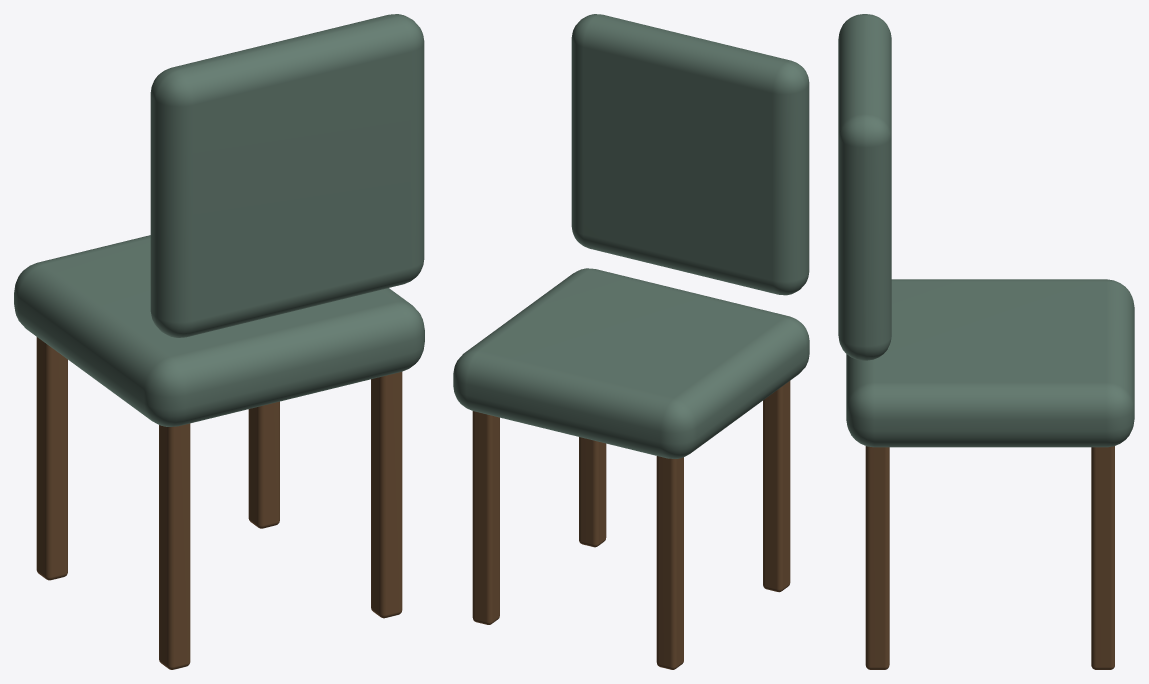
Rendered from dining_chair.glb.
The picture shows the model from 3 angles, left to right: view 1: azimuth 30°, elevation 25°; view 2: azimuth 150°, elevation 25°; view 3: azimuth 270°, elevation 25°; orthographic projection. The views are drawn at different scales.
Visible parts, largest first — view 1: Curved padded back, Upholstered dining seat, Chair leg.001, Chair leg.003, Chair leg, Chair leg.002; view 2: Curved padded back, Upholstered dining seat, Chair leg, Chair leg.002, Chair leg.001, Chair leg.003; view 3: Upholstered dining seat, Curved padded back, Chair leg.003, Chair leg.002.
Part boxes in pixels (<box>): Curved padded back: <box>150,14,424,337</box>; Upholstered dining seat: <box>14,235,424,426</box>; Chair leg.001: <box>159,423,190,669</box>; Chair leg.003: <box>371,372,402,618</box>; Chair leg: <box>36,337,67,580</box>; Chair leg.002: <box>248,401,279,528</box>; Curved padded back: <box>571,14,809,295</box>; Upholstered dining seat: <box>453,268,809,458</box>; Chair leg: <box>656,456,683,669</box>; Chair leg.002: <box>472,411,499,624</box>; Chair leg.001: <box>763,381,790,592</box>; Chair leg.003: <box>579,437,606,547</box>; Upholstered dining seat: <box>846,279,1134,447</box>; Curved padded back: <box>838,14,891,360</box>; Chair leg.003: <box>865,446,889,669</box>; Chair leg.002: <box>1091,446,1114,669</box>.
Bounding box in the file's own units: 0.47 × 0.975 × 0.4725.
